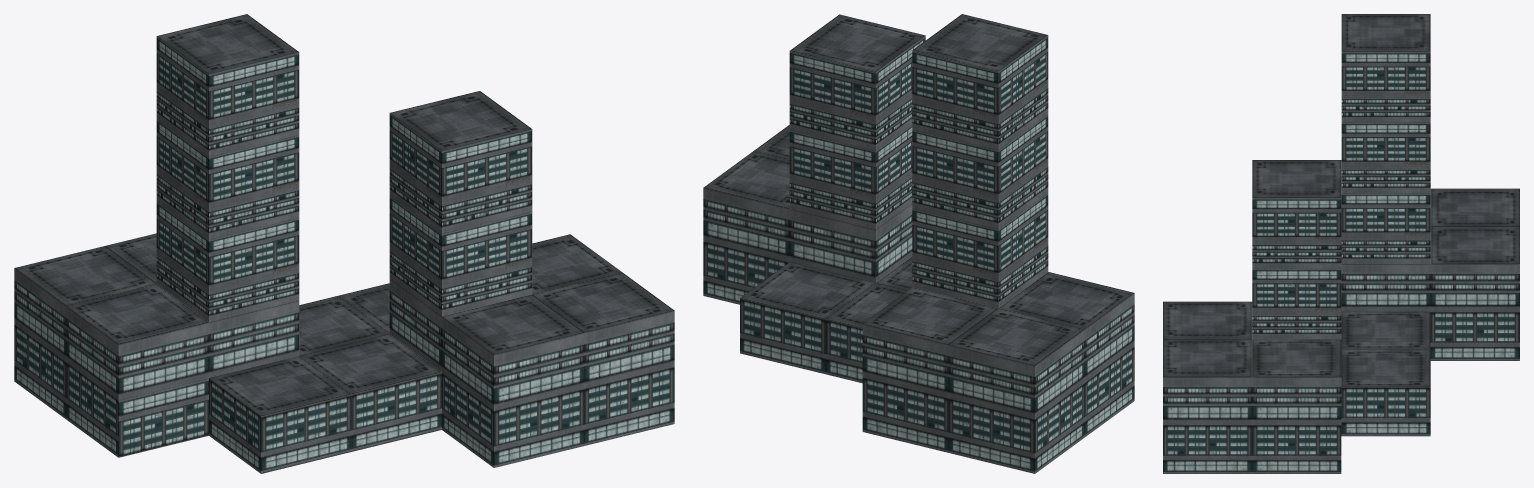
The model's file is Bldg04.fbx.
3 renders of one model, left to right at view 1: azimuth 30°, elevation 25°; view 2: azimuth 150°, elevation 25°; view 3: azimuth 270°, elevation 25°, orthographic. The views are drawn at different scales.
Visible parts, largest first — view 1: Bldg04; view 2: Bldg04; view 3: Bldg04.
Boxes of the visible parts, left/top/right/bottom form: Bldg04: left=14, top=14, right=674, bottom=473; Bldg04: left=703, top=14, right=1134, bottom=473; Bldg04: left=1163, top=14, right=1519, bottom=473.
Size of the model in its own units: 320 by 245 by 256.
